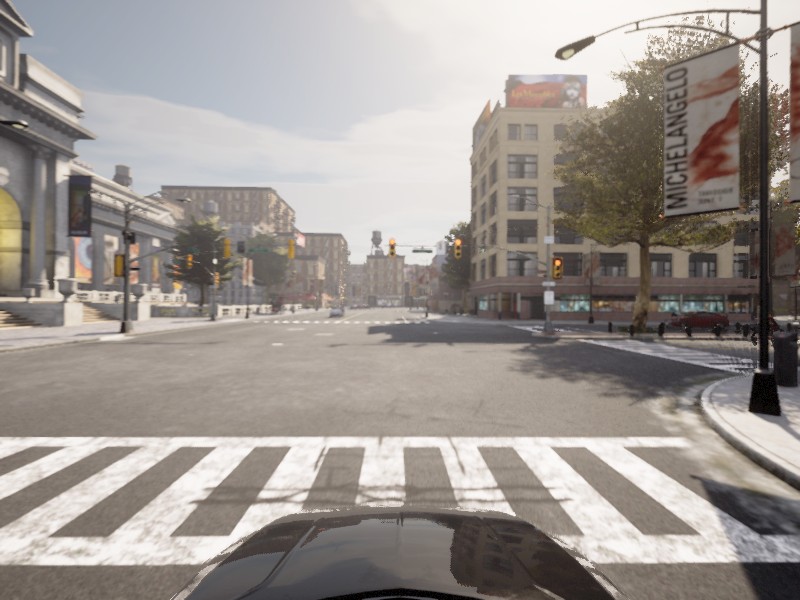vehicle: (658, 310, 734, 330), (746, 311, 790, 345)
